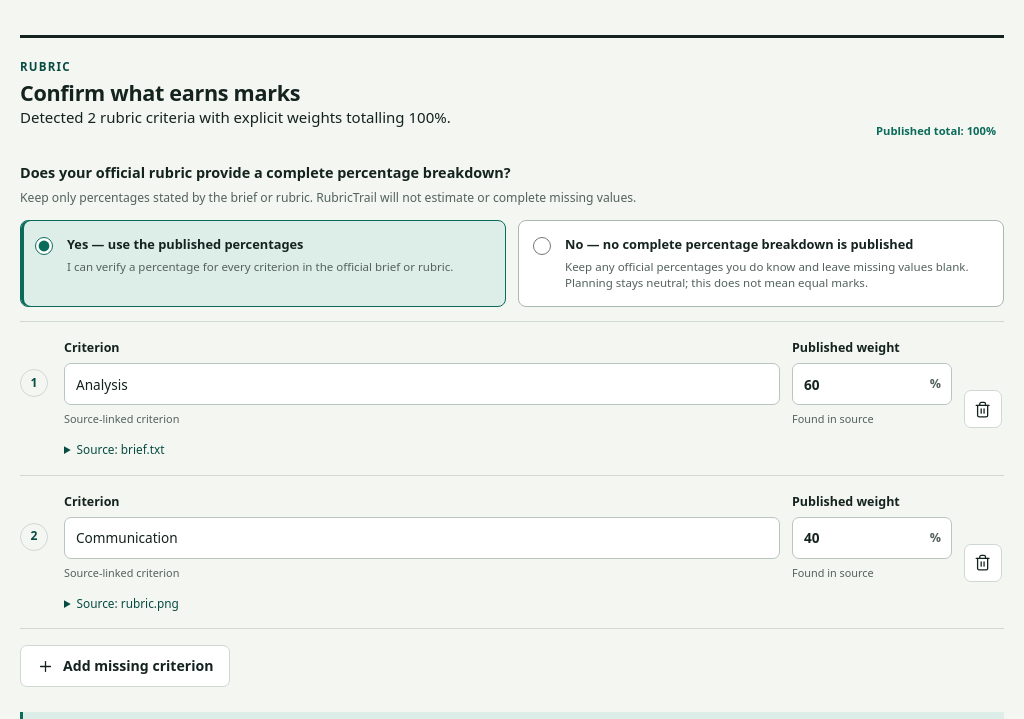
Test: UploadSummaryView rubric weighting › uses the spanning evidence wrapper for extracted, OCR and missing evidence
(page scrolled)
Replace the text in the field with test id "criterion-name-0" with "Manual analysis". click: [422, 384]
box: [64, 364, 780, 406]
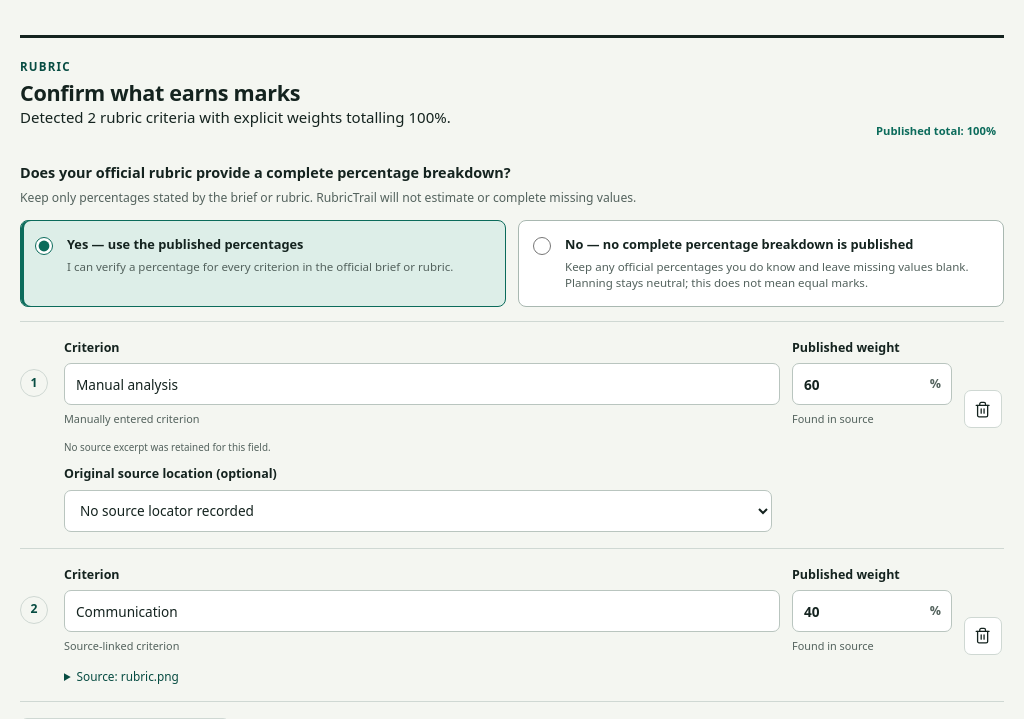
expect the element with class "source-evidence-note--empty" is shown: met, box [64, 440, 772, 532]
expect the text "No source excerpt was retained for this field." is shown: met, box [64, 440, 271, 454]
